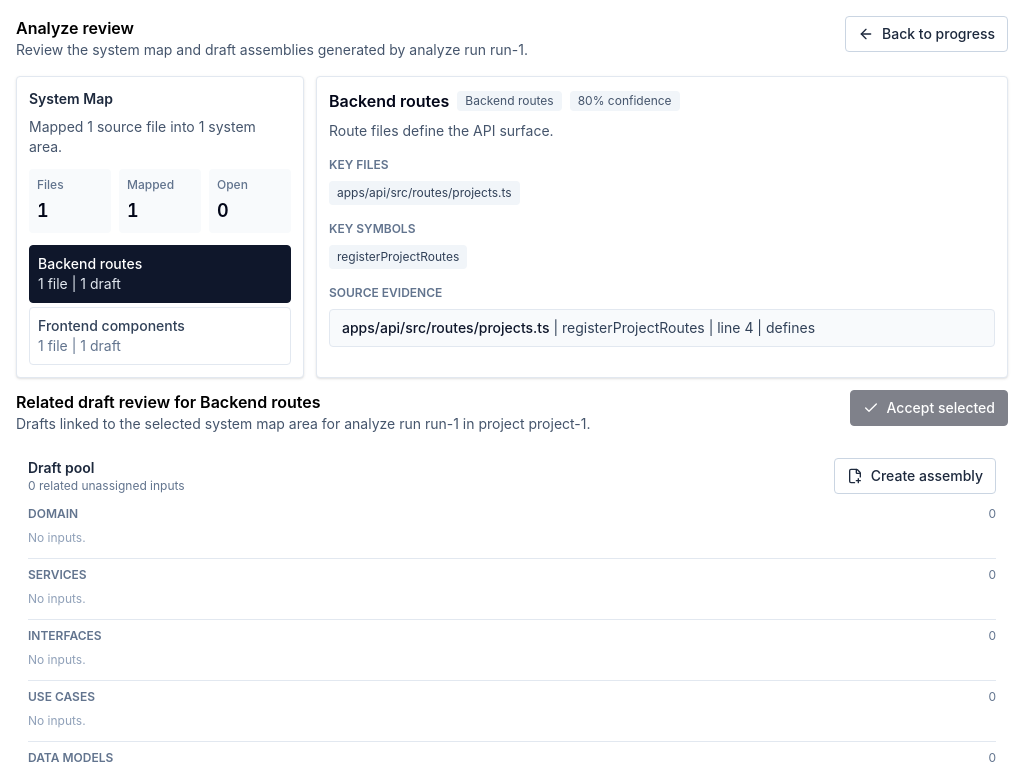
AnalyzeRunReviewPage › changes visible related drafts when a system map area is selected
The image size is (1024, 768).
Expected: the text "Review draft pool" is not shown
Click the button "Frontend components 1 file | 1 draft".
click(160, 336)  # box [29, 307, 291, 365]
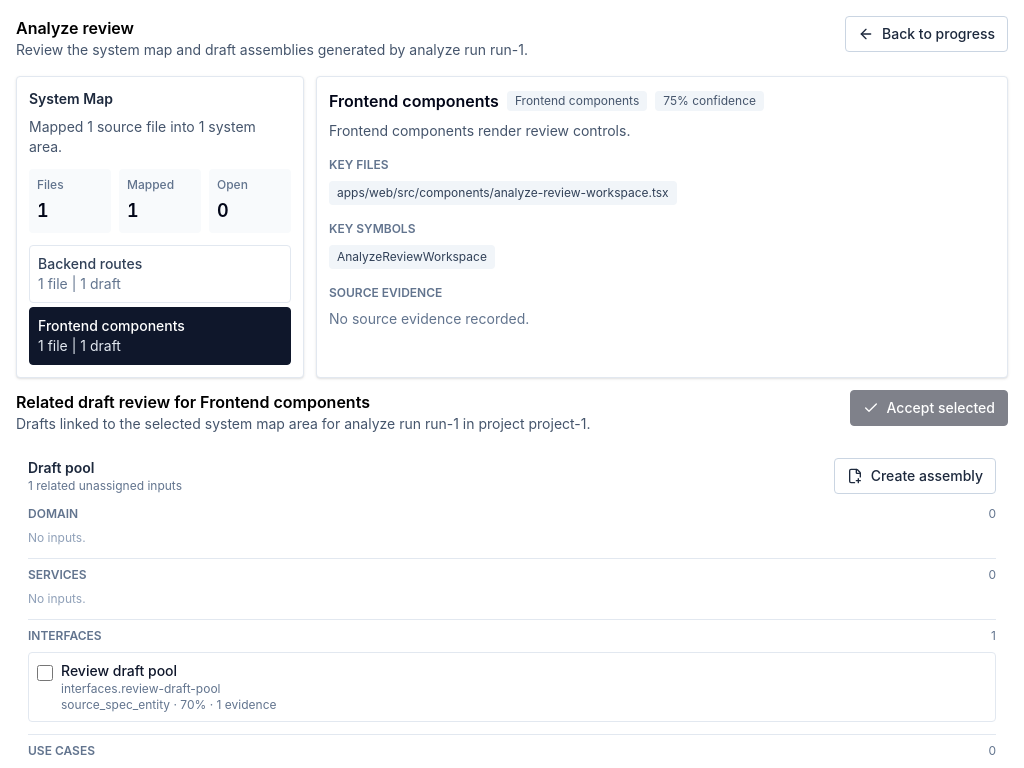
Result: the text "Related draft review for Frontend components" is shown at [16, 392, 370, 412]
Result: the text "Review draft pool" is shown at [61, 662, 177, 679]
